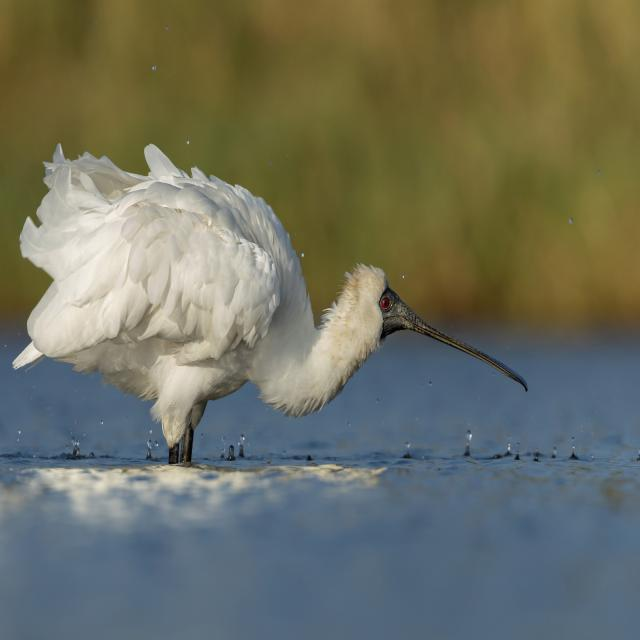Black-faced spoonbill: (14, 146, 526, 462)
